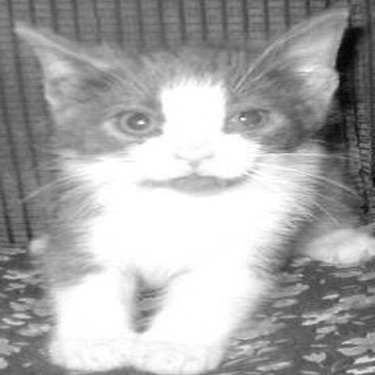cat: (1, 9, 355, 352)
